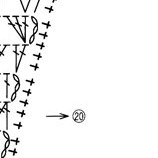enseble_chain: (0, 43, 27, 105), (0, 6, 36, 51), (7, 43, 28, 74), (23, 14, 42, 45), (44, 107, 73, 125), (0, 131, 18, 158), (0, 103, 15, 131), (72, 108, 87, 123)
